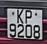0: (25, 23, 33, 40)
2: (17, 23, 26, 40)
8: (33, 23, 41, 41)
9: (9, 23, 17, 39)
K: (16, 9, 24, 25)
P: (25, 9, 34, 25)
